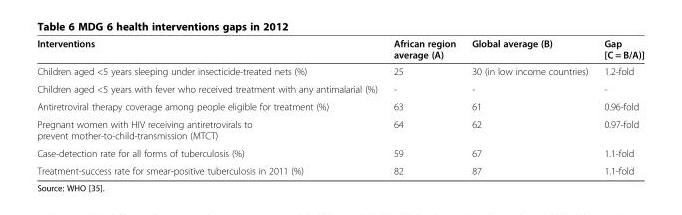table: (36, 37, 643, 176)
table column: (36, 37, 384, 176), (463, 37, 595, 176), (384, 37, 463, 176), (595, 37, 643, 176)
table column header: (36, 37, 643, 62)
table row: (36, 115, 643, 144), (36, 37, 643, 62), (36, 79, 643, 97), (36, 97, 643, 115), (36, 62, 643, 79), (36, 144, 643, 161), (36, 161, 643, 176)
